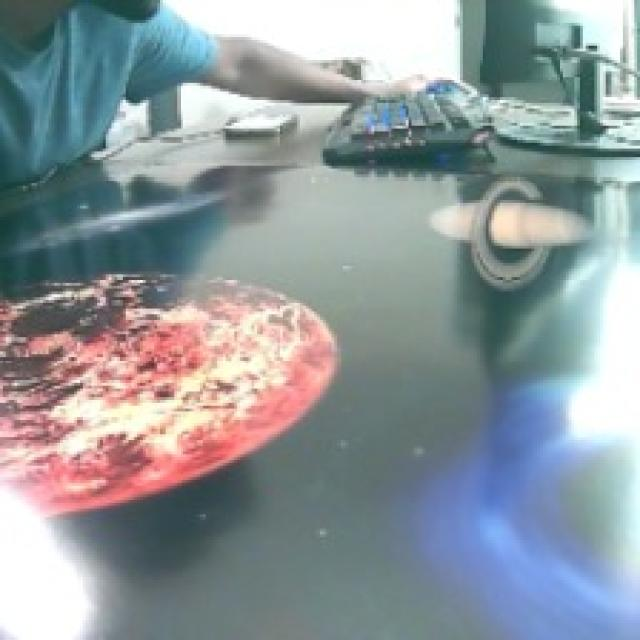Black Hole: (406, 370, 639, 640)
Galaxy: (17, 188, 231, 254)
Saturn: (430, 176, 596, 293)
Sun: (0, 263, 337, 520)
